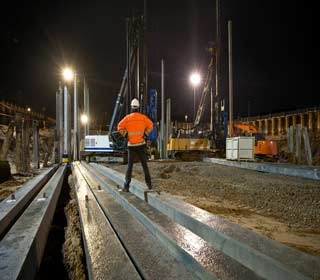white: (128, 95, 140, 112)
